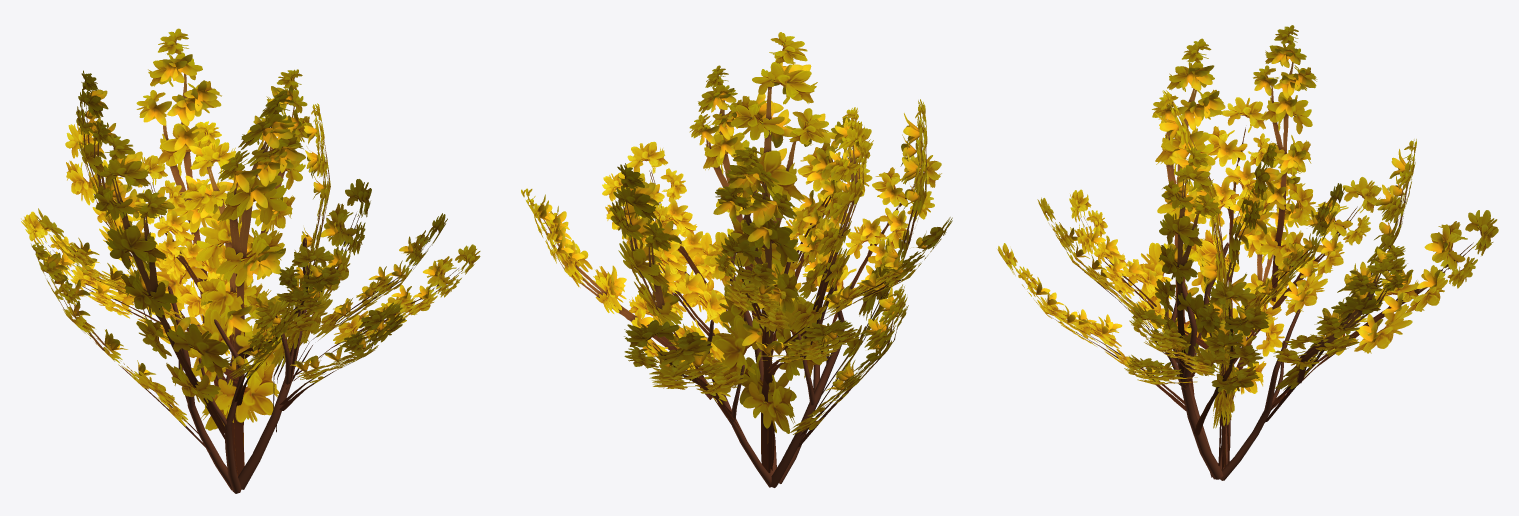
Rendered from SE_Bush_03.fbx.
The picture shows the model from 3 angles, left to right: view 1: azimuth 30°, elevation 25°; view 2: azimuth 150°, elevation 25°; view 3: azimuth 270°, elevation 25°; orthographic projection. The views are drawn at different scales.
Visible parts, largest first — view 1: SE_Bush_03; view 2: SE_Bush_03; view 3: SE_Bush_03.
Part boxes in pixels (bbox=[...]): SE_Bush_03: bbox=[21, 28, 480, 493]; SE_Bush_03: bbox=[521, 32, 952, 487]; SE_Bush_03: bbox=[997, 25, 1498, 480].
Size of the model in its own units: 10.25 by 10.68 by 12.03.
